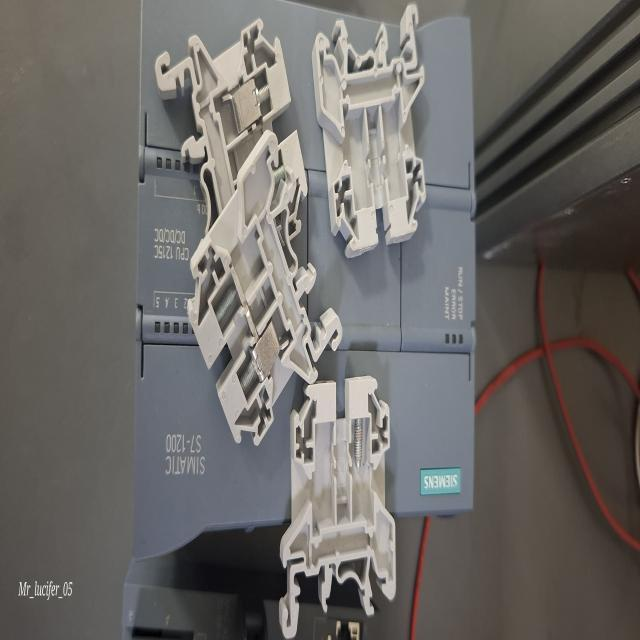Reject: (186, 131, 342, 440), (282, 381, 398, 640), (311, 6, 428, 256)
